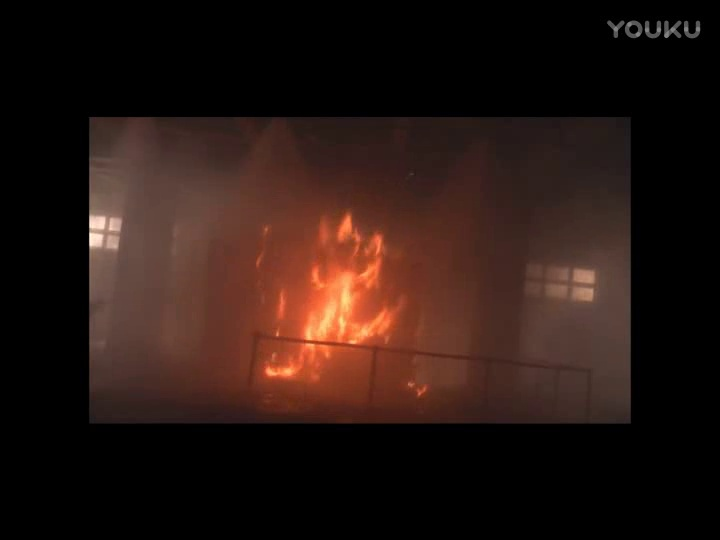fire: (263, 197, 412, 383)
